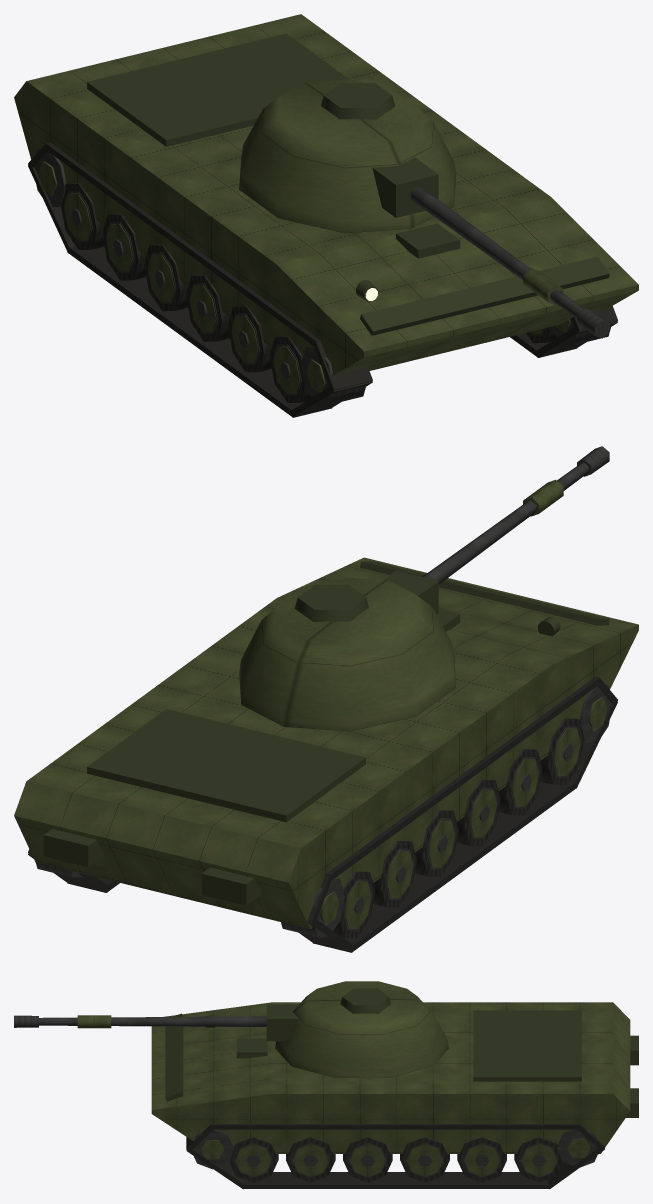
3 renders of one model, top to bottom at view 1: azimuth 30°, elevation 25°; view 2: azimuth 150°, elevation 25°; view 3: azimuth 270°, elevation 25°, orthographic. The views are drawn at different scales.
Visible parts, largest first — view 1: PT76_Amphibious_Tank; view 2: PT76_Amphibious_Tank; view 3: PT76_Amphibious_Tank.
Boxes of the visible parts, x1,y1,x2,y2 form: PT76_Amphibious_Tank: (14,14,638,417); PT76_Amphibious_Tank: (14,446,638,952); PT76_Amphibious_Tank: (14,981,638,1189).
Bounding box in the file's own units: 3.06 × 2.25 × 8.53.
6 materials, 3 textured.
